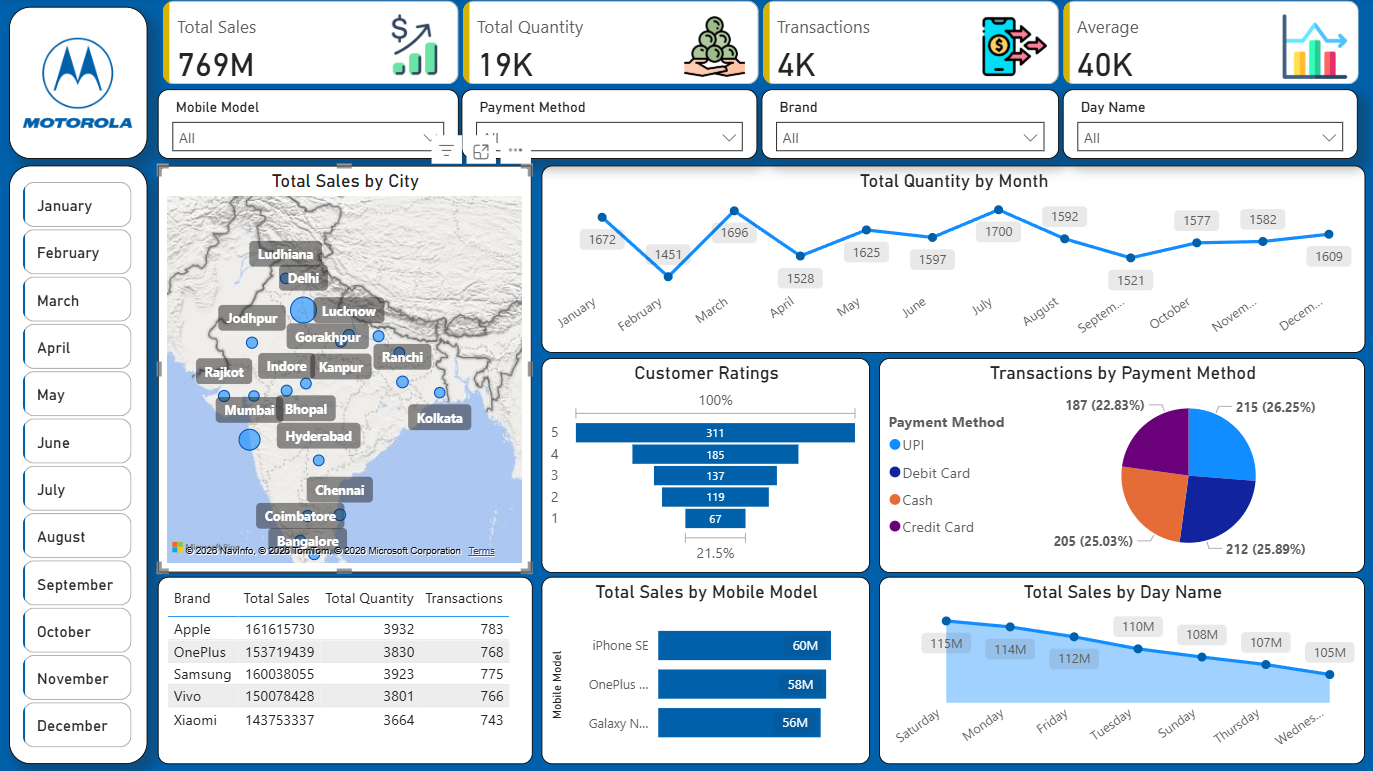

What the dashboard file says about the page in this screenshot:
{"tool":"powerbi","page":{"name":"Page 1","canvas":[1280,720],"ordinal":0},"visuals":[{"type":"shape","box":[9.3,8.1,129.1,141.9],"z":0},{"type":"image","box":[17.4,23.3,111.6,111.6],"z":1000},{"type":"shape","box":[9.3,156,129.1,557],"z":2000},{"type":"advancedSlicerVisual","fields":{"Values":["Sheet1.Date.Variation.Date Hierarchy.Month"]},"box":[17.4,166.4,111.6,538.4],"z":3000},{"type":"cardVisual","fields":{"Data":["Sales Data.Total Sales","Sales Data.Total Quantity","Sales Data.Transactions","Sales Data.Average"]},"box":[147.7,0,1123.3,85],"z":4000},{"type":"map","fields":{"Category":["Sales Data.City"],"Size":["Sales Data.Total Sales"]},"box":[147.7,155.8,347.7,379.1],"z":5000},{"type":"lineChart","fields":{"Category":["Sales Data.Date.Variation.Date Hierarchy.Month","Sales Data.Date.Variation.Date Hierarchy.Day"],"Y":["Sales Data.Total Quantity"]},"box":[504.7,156,766.3,174.4],"z":6000},{"type":"clusteredBarChart","fields":{"Category":["Sales Data.Mobile Model"],"Y":["Sales Data.Total Sales"]},"box":[504.7,538.5,305.8,174.4],"z":7000},{"type":"pieChart","fields":{"Category":["Sales Data.Payment Method"],"Y":["Sales Data.Transactions"]},"box":[818.6,335,452.3,200],"z":8000},{"type":"funnel","title":"Customer Ratings","fields":{"Category":["Sales Data.Customer Ratings"],"Y":["CountNonNull(Sales Data.Customer Ratings)"]},"box":[504.7,334.8,305.8,200],"z":9000},{"type":"areaChart","fields":{"Category":["Sales Data.Day Name"],"Y":["Sales Data.Total Sales"]},"box":[818.6,538.5,452.3,174.4],"z":10000},{"type":"tableEx","fields":{"Values":["Sales Data.Brand","Sales Data.Total Sales","Sales Data.Total Quantity","Sales Data.Transactions"]},"box":[147.7,538.5,348.8,174.4],"z":11000},{"type":"slicer","fields":{"Values":["Sales Data.Mobile Model"]},"box":[147.7,84.9,280.2,65.1],"z":12000},{"type":"slicer","fields":{"Values":["Sales Data.Payment Method"]},"box":[430.2,84.9,275.6,65.1],"z":12001},{"type":"slicer","fields":{"Values":["Sales Data.Brand"]},"box":[709.3,84.9,276.7,65.1],"z":12002},{"type":"slicer","fields":{"Values":["Sales Data.Day Name"]},"box":[989.5,84.9,274.4,65.1],"z":12003}]}

Visuals, with their boxes in screenshot pixels (x1, y1, x2, y2), scaled from the page's 1280x720 canvas onto the 1373x771 screenshot:
shape: l=10, t=9, r=148, b=161
image: l=19, t=25, r=138, b=144
shape: l=10, t=167, r=148, b=764
advancedSlicerVisual - Sheet1.Date.Variation.Date Hierarchy.Month: l=19, t=178, r=138, b=755
cardVisual - Sales Data.Total Sales x Sales Data.Total Quantity: l=158, t=0, r=1363, b=91
map - Sales Data.City x Sales Data.Total Sales: l=158, t=167, r=531, b=573
lineChart - Sales Data.Date.Variation.Date Hierarchy.Month x Sales Data.Date.Variation.Date Hierarchy.Day: l=541, t=167, r=1363, b=354
clusteredBarChart - Sales Data.Mobile Model x Sales Data.Total Sales: l=541, t=577, r=869, b=763
pieChart - Sales Data.Payment Method x Sales Data.Transactions: l=878, t=359, r=1363, b=573
"Customer Ratings" funnel: l=541, t=359, r=869, b=573
areaChart - Sales Data.Day Name x Sales Data.Total Sales: l=878, t=577, r=1363, b=763
tableEx - Sales Data.Brand x Sales Data.Total Sales: l=158, t=577, r=533, b=763
slicer - Sales Data.Mobile Model: l=158, t=91, r=459, b=161
slicer - Sales Data.Payment Method: l=461, t=91, r=757, b=161
slicer - Sales Data.Brand: l=761, t=91, r=1058, b=161
slicer - Sales Data.Day Name: l=1061, t=91, r=1356, b=161
